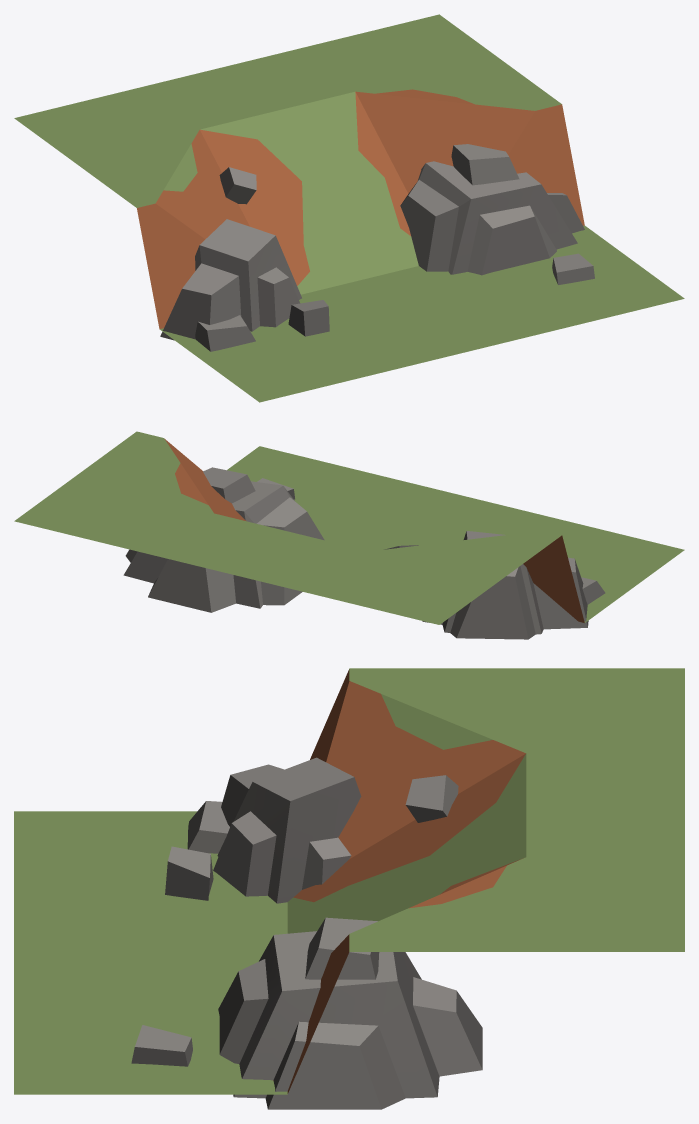
Rendered from SA_Env_HillTile_Ramp_01.gltf.
3 renders of one model, top to bottom at view 1: azimuth 30°, elevation 25°; view 2: azimuth 150°, elevation 25°; view 3: azimuth 270°, elevation 25°, orthographic. The views are drawn at different scales.
Visible parts, largest first — view 1: SA_Env_HillTile_Ramp_01; view 2: SA_Env_HillTile_Ramp_01; view 3: SA_Env_HillTile_Ramp_01.
Boxes of the visible parts, box(x1,y1,x2,y2) form: SA_Env_HillTile_Ramp_01: box(14, 14, 684, 402); SA_Env_HillTile_Ramp_01: box(14, 431, 684, 639); SA_Env_HillTile_Ramp_01: box(14, 668, 684, 1109).
Size of the model in its own units: 15.04 by 3.9 by 15.
1 material, 1 textured.
